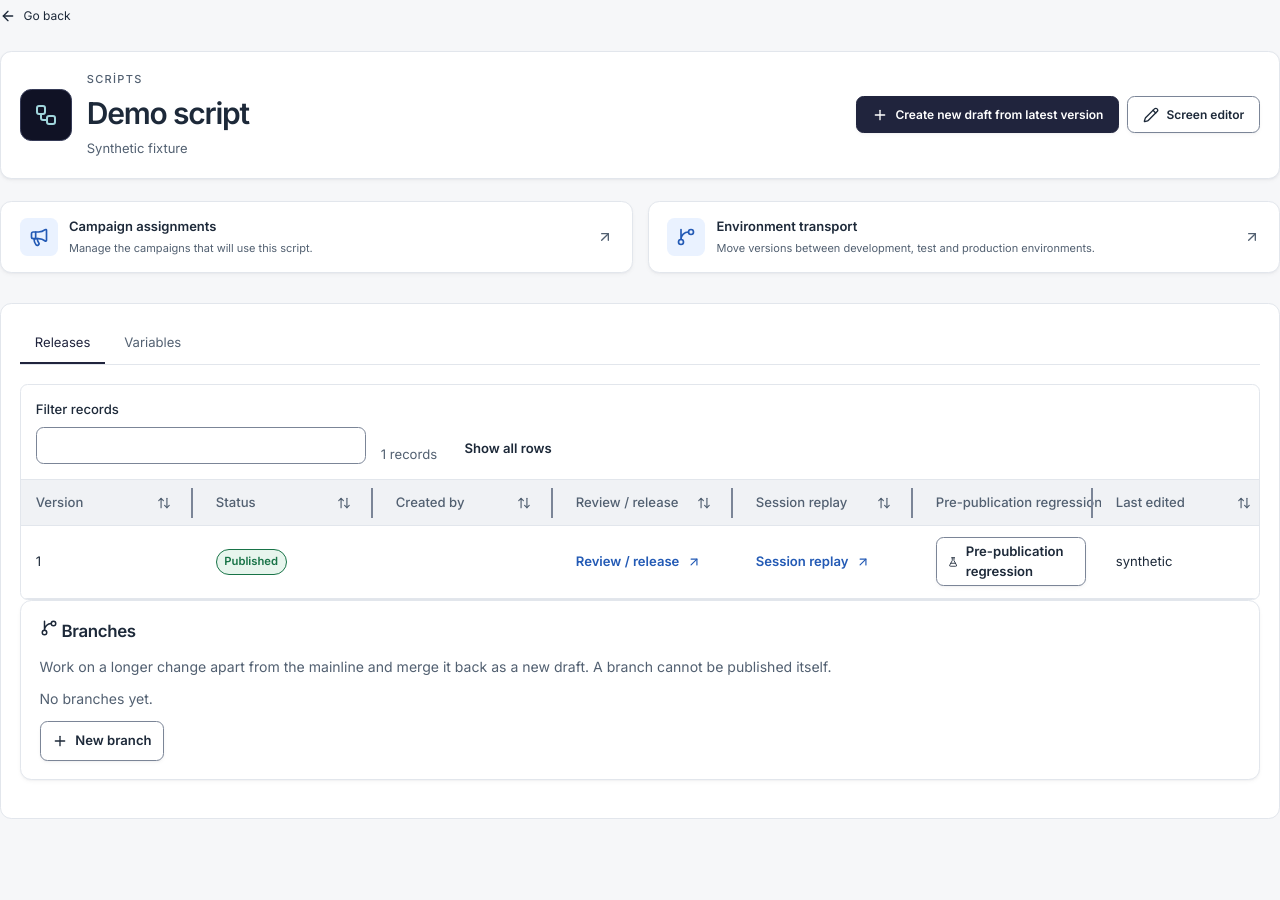
opens regression outside table cells in an accessible dialog and returns focus on close
The image size is (1280, 900).
Expected: the heading "Demo script" is shown, top-left (87, 94), bottom-right (249, 130)
Click the button "Show all rows": point(508, 449) top-left (452, 434), bottom-right (564, 464)
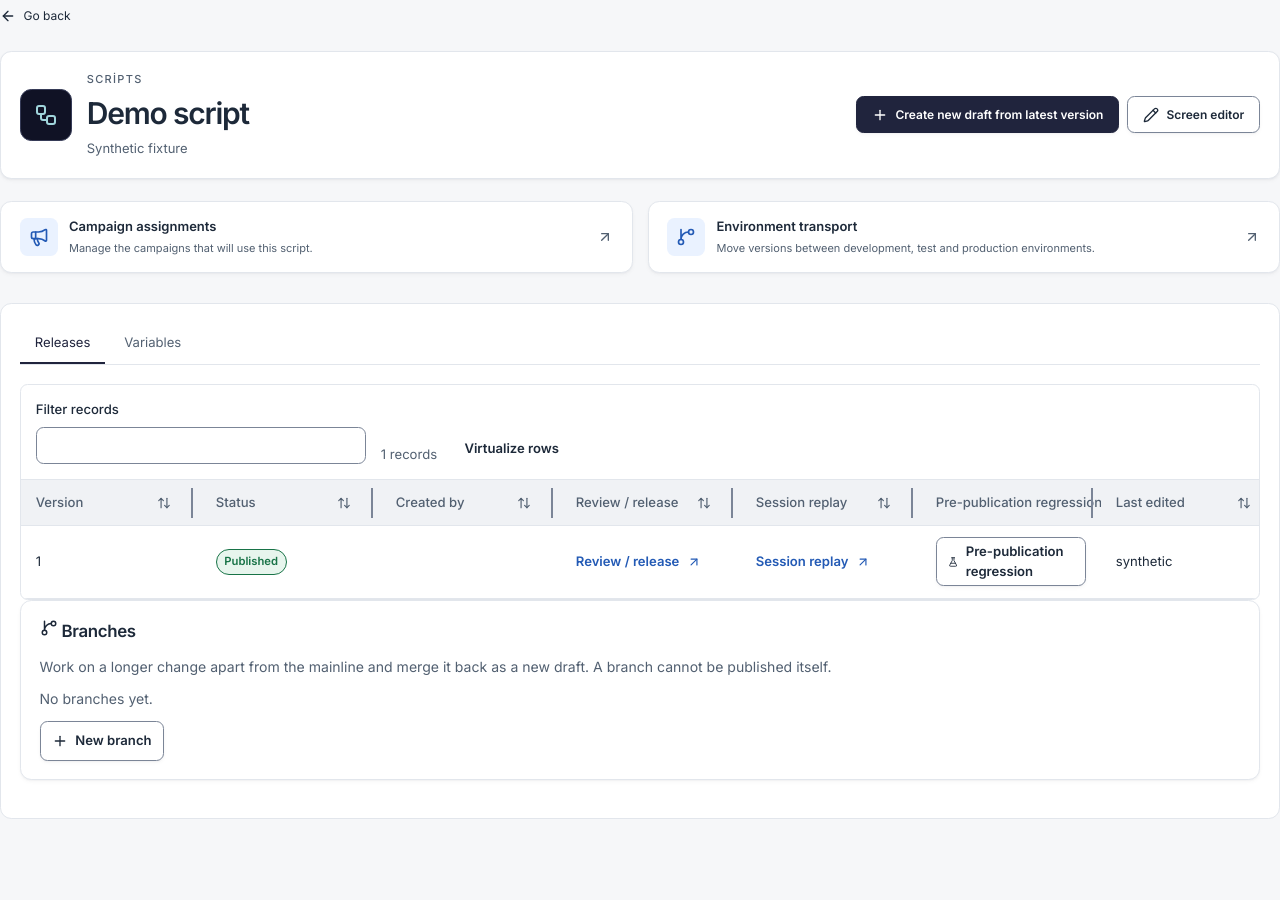
Click the 2nd button "Pre-publication regression": point(1011, 562) top-left (936, 538), bottom-right (1086, 586)
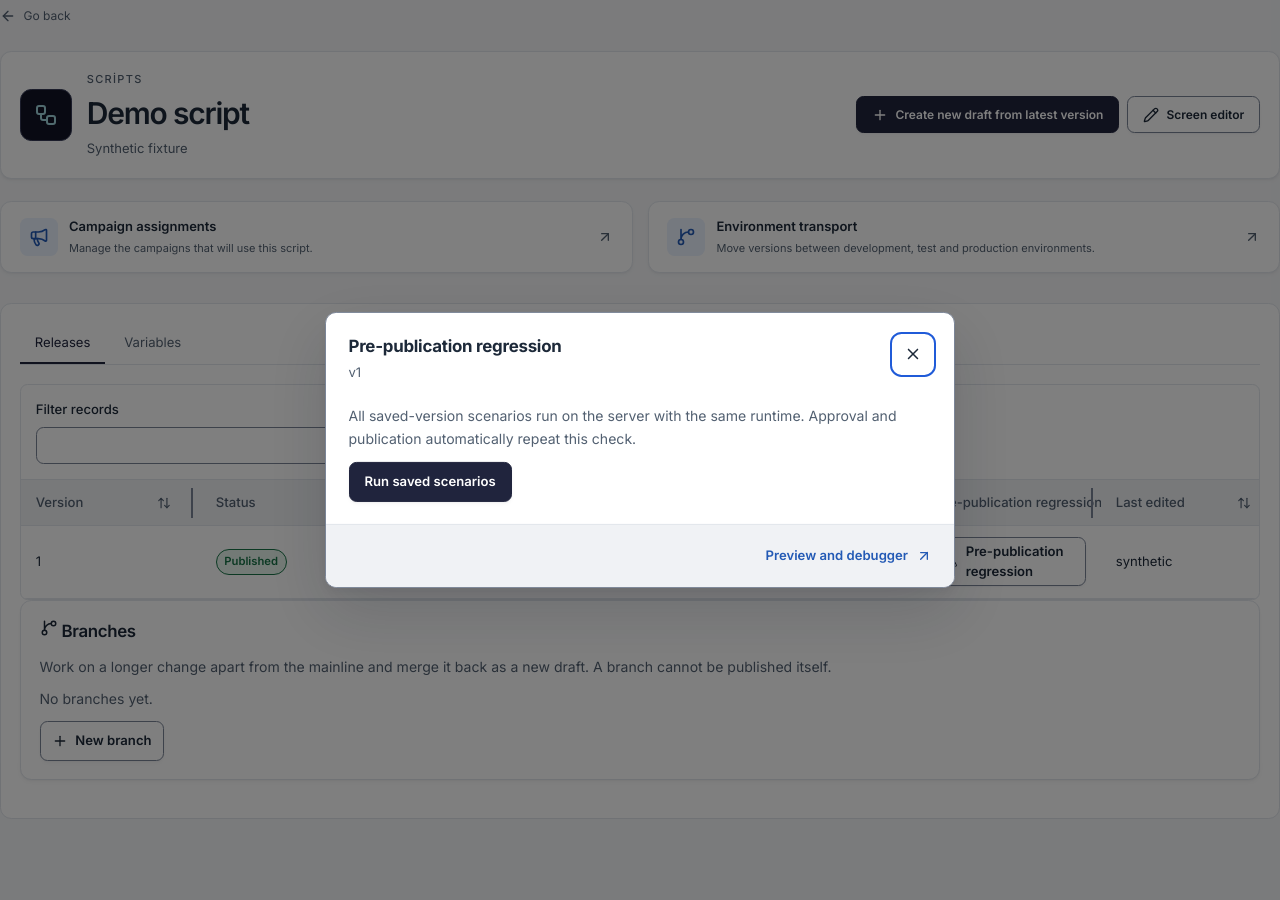
Expected: the button "Run saved scenarios" is shown, top-left (348, 462), bottom-right (512, 502)
Click the button named "Close": point(913, 354) top-left (894, 335), bottom-right (932, 373)
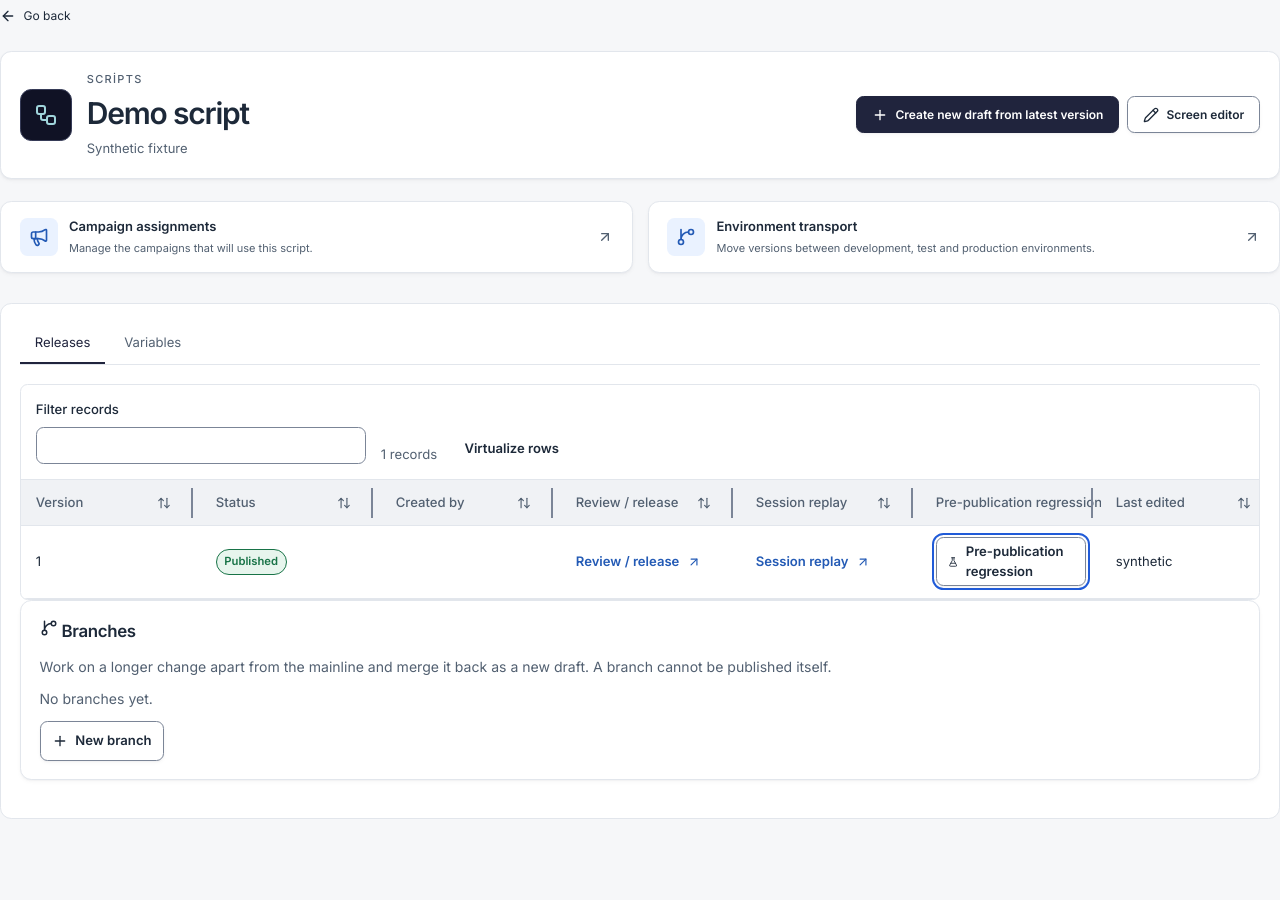
Expected: the dialog is gone
